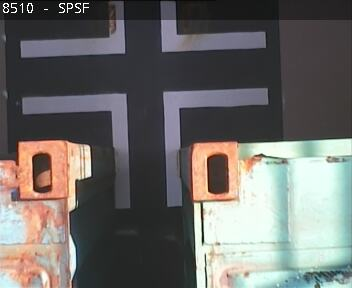groundmarker_1: (21, 87, 269, 206)
